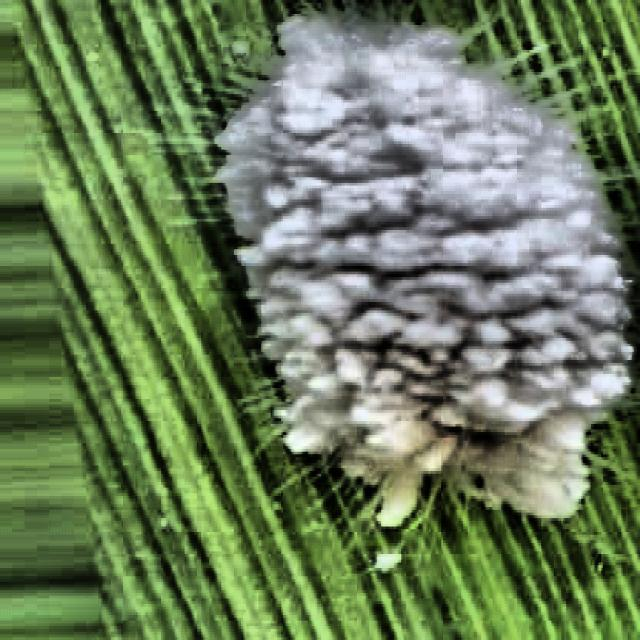Mealy-bug: (200, 2, 637, 584)
